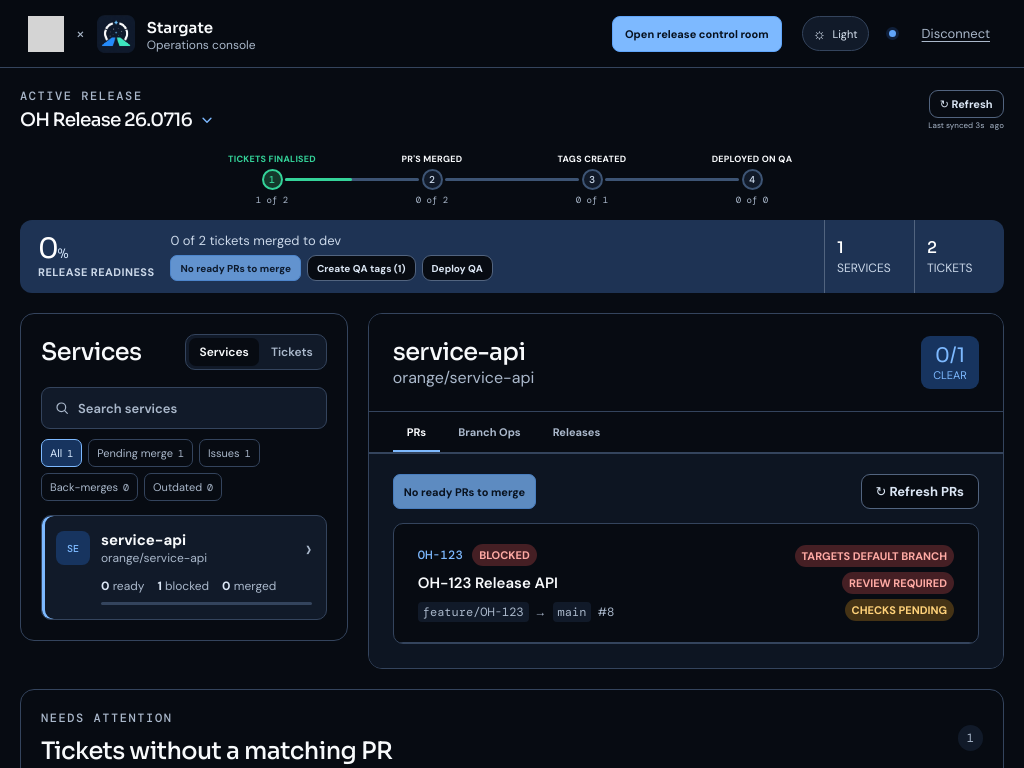
ReleaseOverview › lazy-loads operations once and redistributes content across tabs
The width and height of the screenshot is (1024, 768).
Expected: the link "OH-123 Release API" is shown, [418,573,558,593]
Expected: the button "↻ Refresh PRs" is shown, [860,474,979,509]
Click the tab "Releases": click(576, 432) [539,412,614,452]
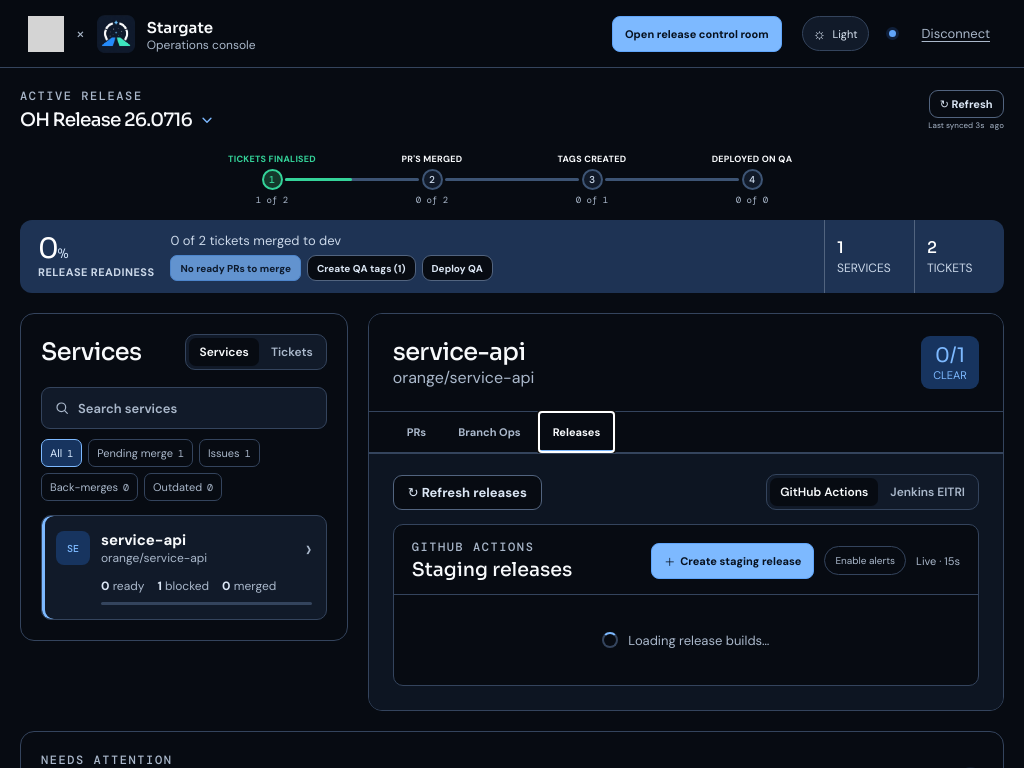
Result: the button "＋ Create staging release" is shown at [651,542,814,578]
Result: the button "↻ Refresh releases" is shown at [393,474,542,510]
Result: the text "Loading release builds…" is shown at [602,632,769,648]
Click the tab "Branch Ops": click(489, 432) [444,412,535,452]
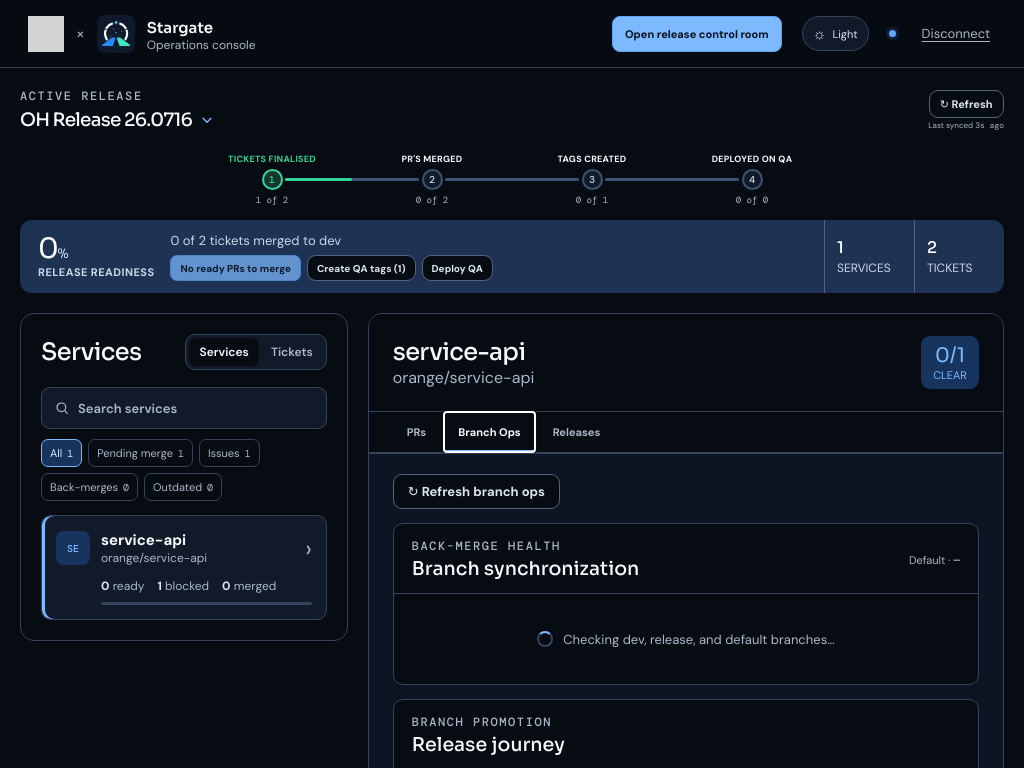
Result: the text "Checking dev, release, and default branches…" is shown at [537,630,834,648]
Result: the button "↻ Refresh branch ops" is shown at [393,474,560,509]
Result: the text "Loading release builds" is gone
